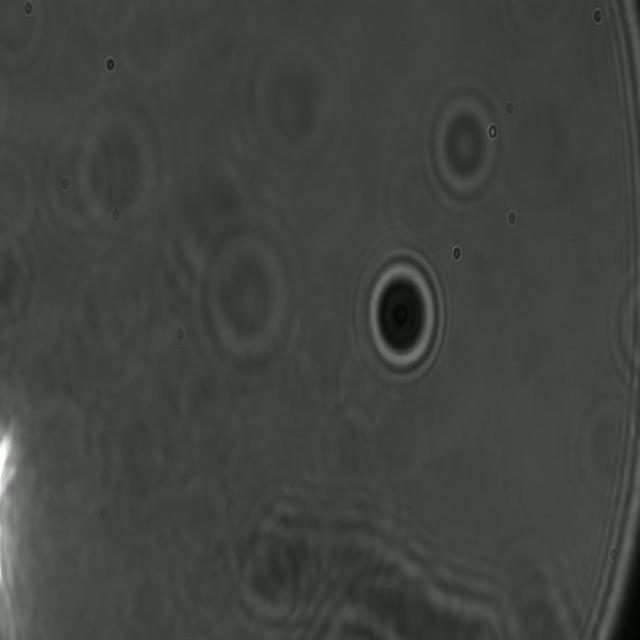DCELL: (364, 252, 447, 382)
